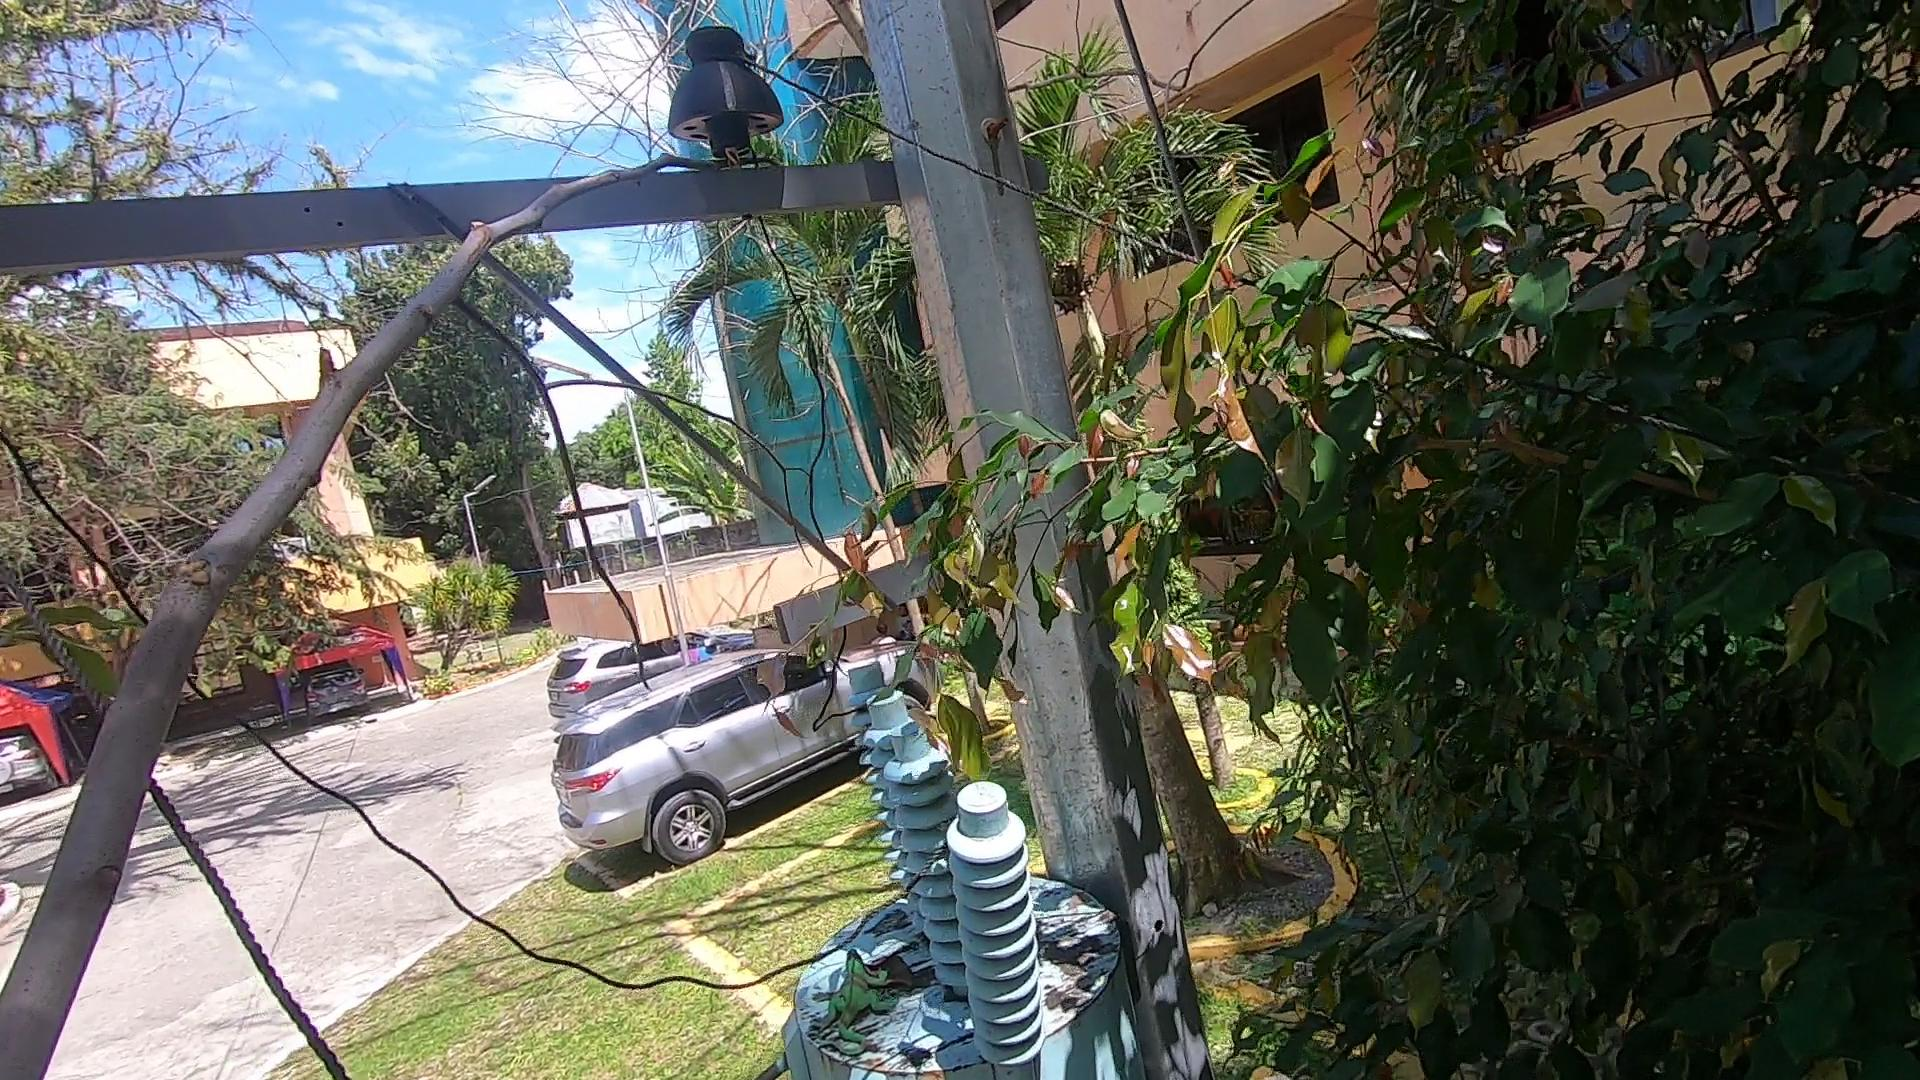branch with leaves: (800, 447, 1153, 799)
leaf: (1036, 926, 1122, 1001), (874, 949, 953, 1007)
tree branch: (24, 32, 779, 1080)
